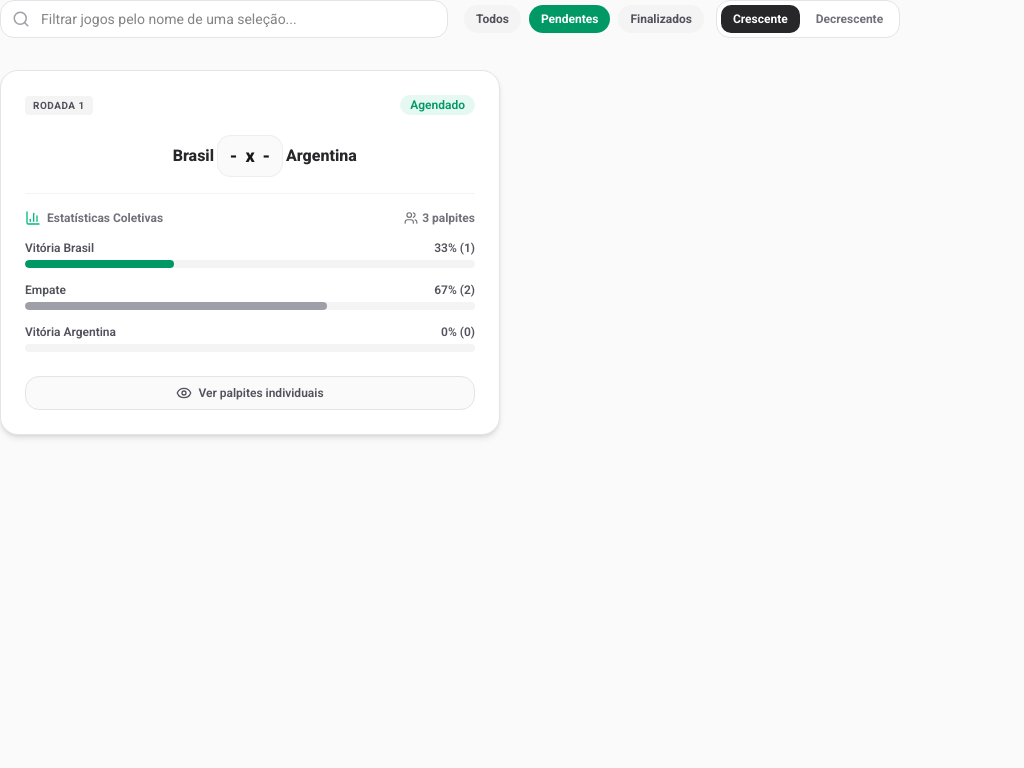
Scenario: PalpitesStats › Modal de Votação › deve abrir modal filtrado por vitória do time A
Click the button "33% (1)".
click(455, 248)  # box [434, 240, 475, 256]
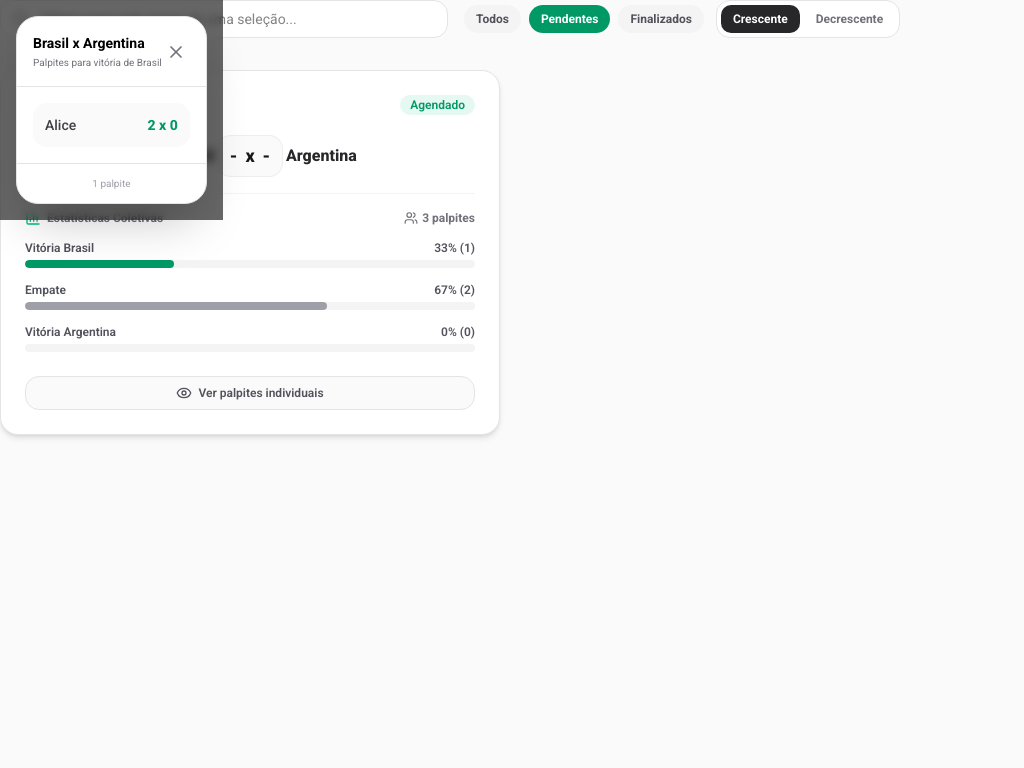
Expected: the text "Alice" is shown, [45, 115, 76, 135]
